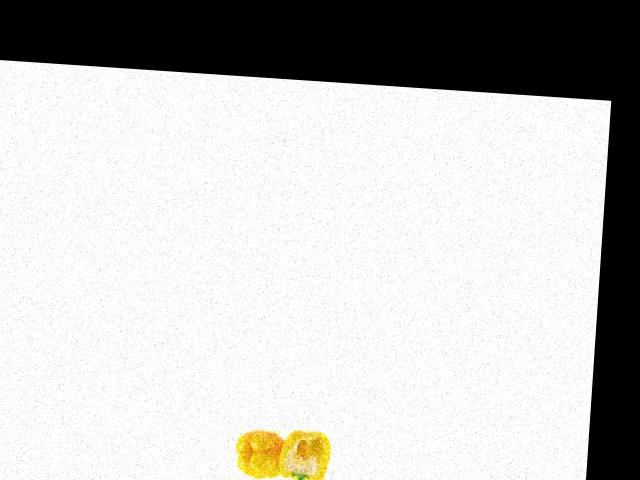bell_pepper: (267, 416, 335, 480)
